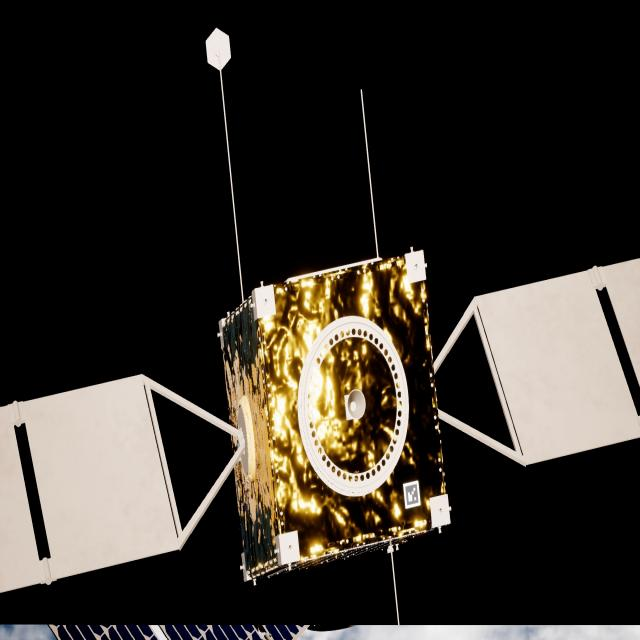satellite: (0, 251, 640, 596)
